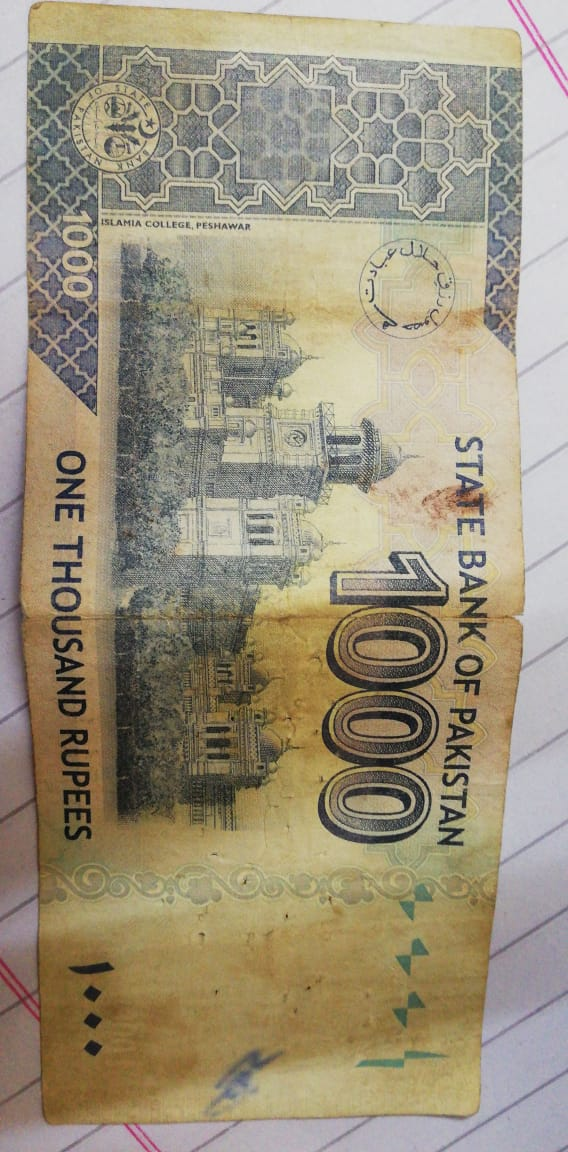1000 rupee: (12, 17, 524, 1142)
